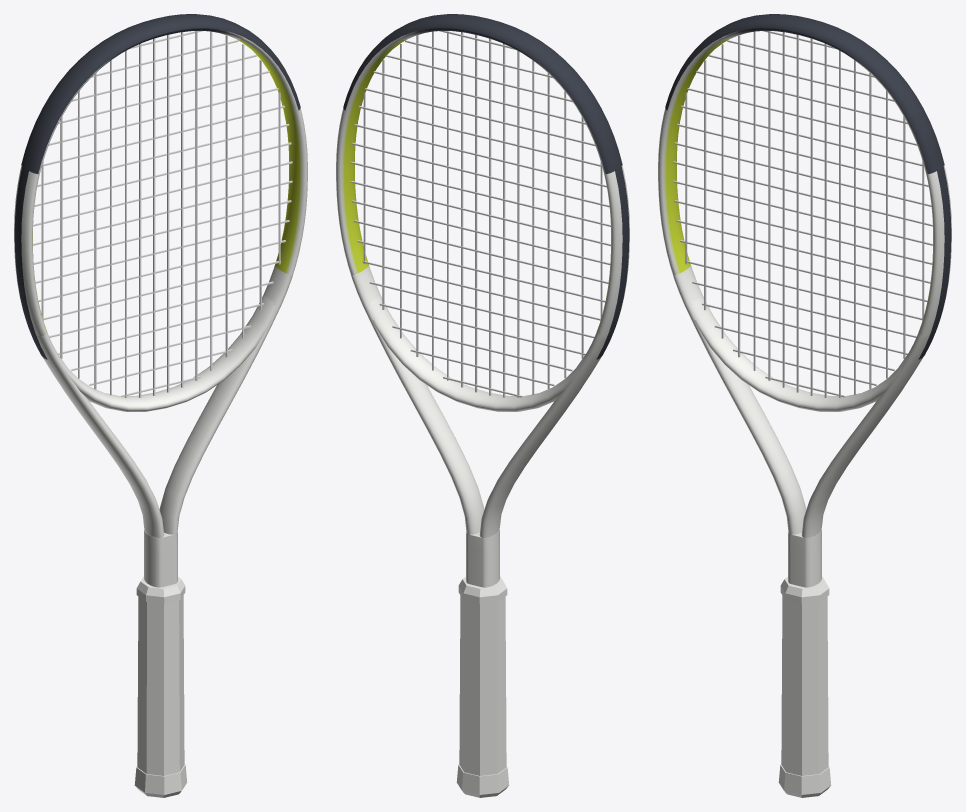
Rendered from tecnifibre-tf-x1-v1.glb.
The picture shows the model from 3 angles, left to right: view 1: azimuth 30°, elevation 25°; view 2: azimuth 150°, elevation 25°; view 3: azimuth 330°, elevation 25°; orthographic projection.
Visible parts, largest first — view 1: frame, strings_mains, strings_crosses, grip, bumper, grommets, butt_cap, collar; view 2: frame, strings_mains, strings_crosses, grip, bumper, grommets, butt_cap, collar; view 3: frame, strings_mains, strings_crosses, grip, bumper, grommets, butt_cap, collar.
Boxes of the visible parts, x1,y1,x2,y2 form: frame: (14, 28, 307, 587); strings_mains: (41, 31, 280, 397); strings_crosses: (33, 31, 292, 397); grip: (137, 595, 184, 775); bumper: (21, 14, 300, 173); grommets: (14, 166, 47, 359); butt_cap: (134, 764, 187, 797); collar: (136, 576, 185, 603); frame: (336, 28, 629, 587); strings_mains: (363, 31, 602, 397); strings_crosses: (350, 31, 610, 397); grip: (459, 595, 506, 775); bumper: (343, 14, 622, 173); grommets: (596, 166, 629, 359); butt_cap: (456, 764, 509, 797); collar: (458, 576, 507, 603); frame: (658, 28, 951, 587); strings_mains: (685, 31, 924, 397); strings_crosses: (673, 31, 932, 397); grip: (781, 595, 828, 775); bumper: (665, 14, 944, 173); grommets: (918, 166, 951, 359); butt_cap: (778, 764, 831, 797); collar: (780, 576, 829, 603).
Bounding box in the file's own units: 0.2687 × 0.6861 × 0.0396.
